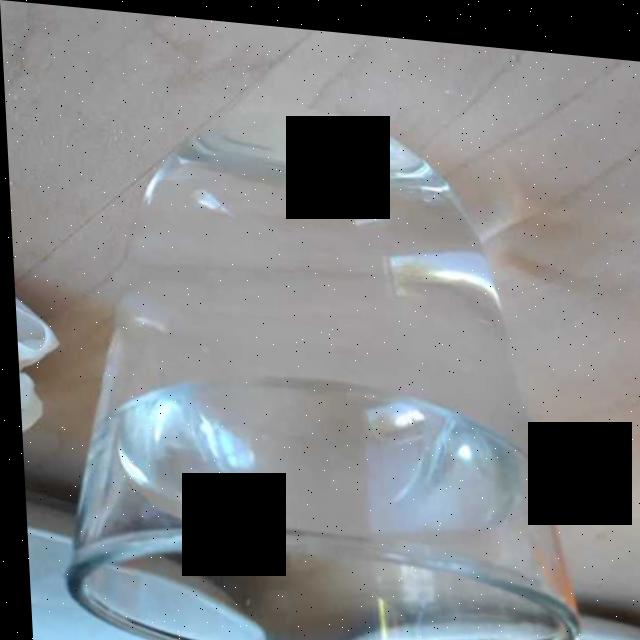water: (82, 167, 549, 620)
